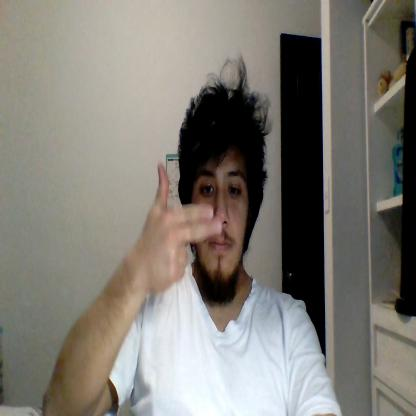H: (142, 163, 222, 293)
